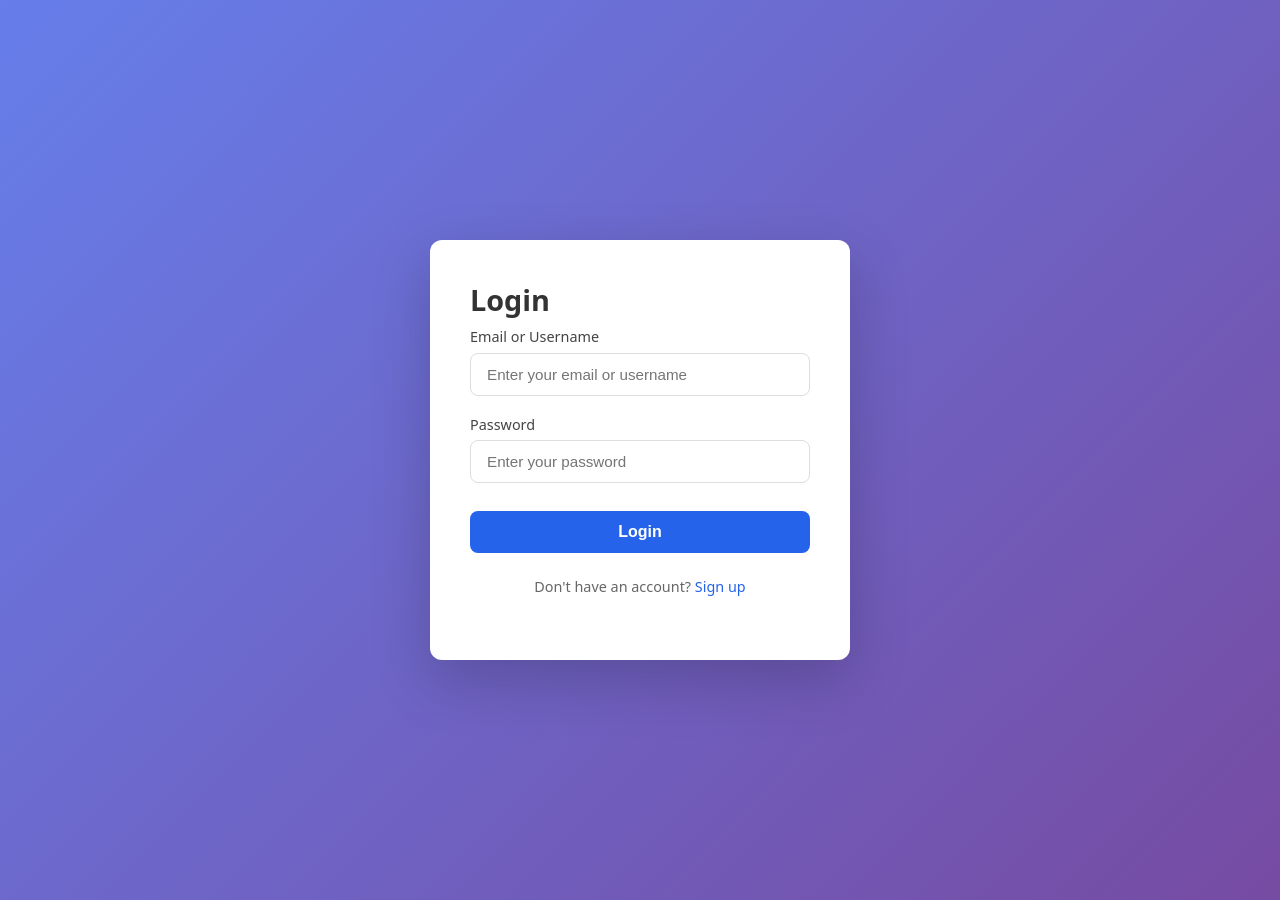
Test case: Login Page › shows error for short password
Type "user@test.com" into the field with placeholder "Enter your email or username" at (640, 374), box [470,353,810,396]
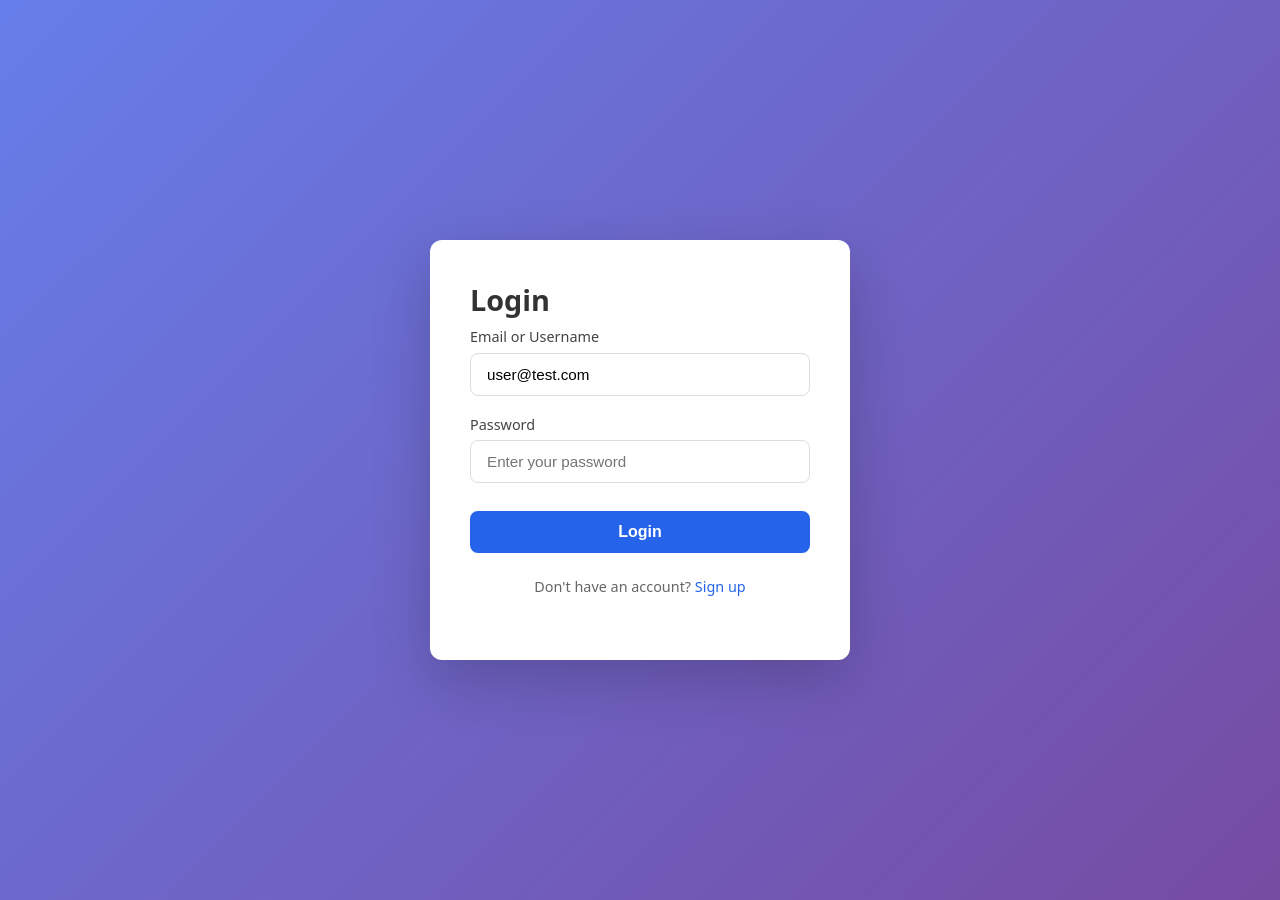
Type "123" into the password field with placeholder "Enter your password" at (640, 462), box [470,440,810,483]
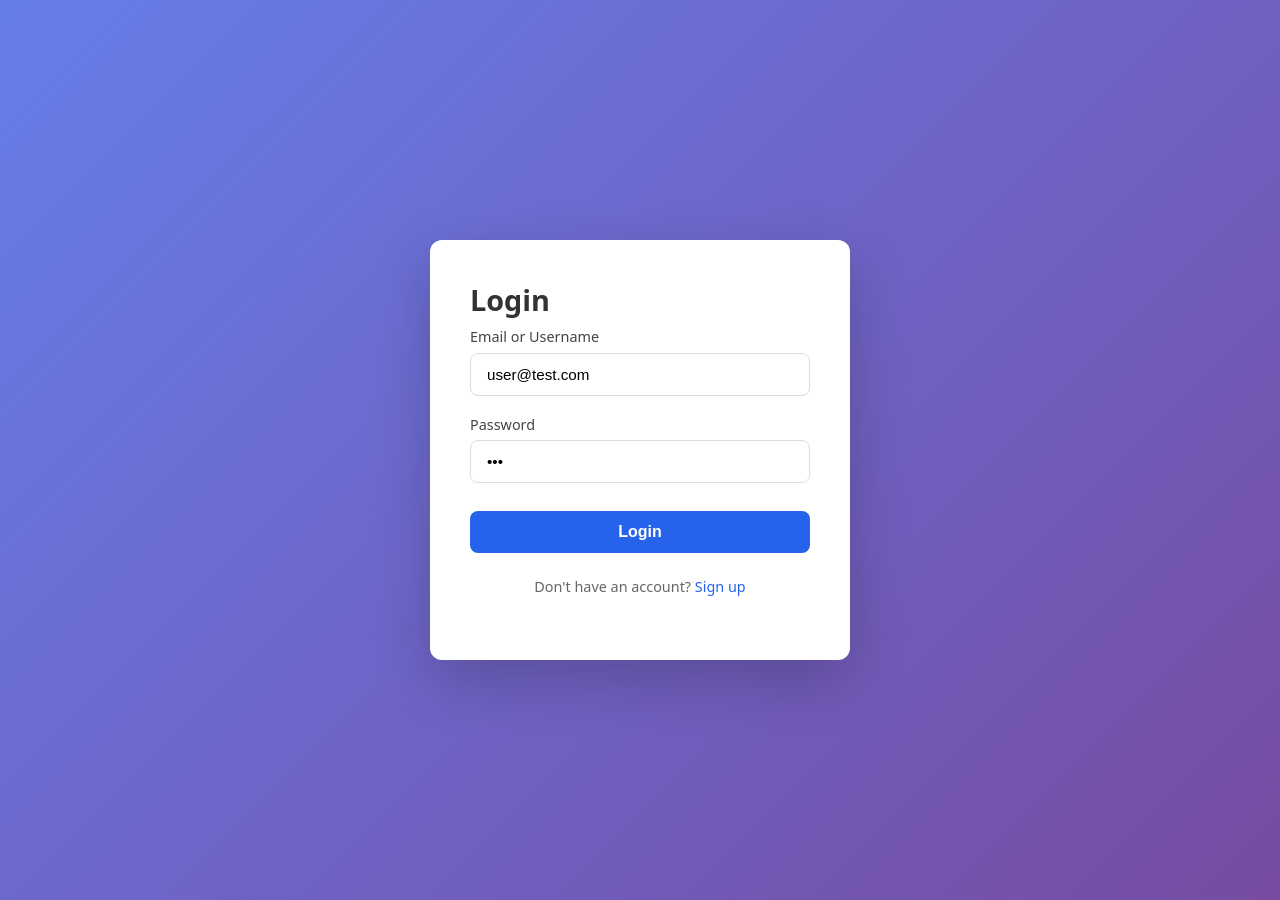
Click the button "Login" at (640, 532), box [470,511,810,553]
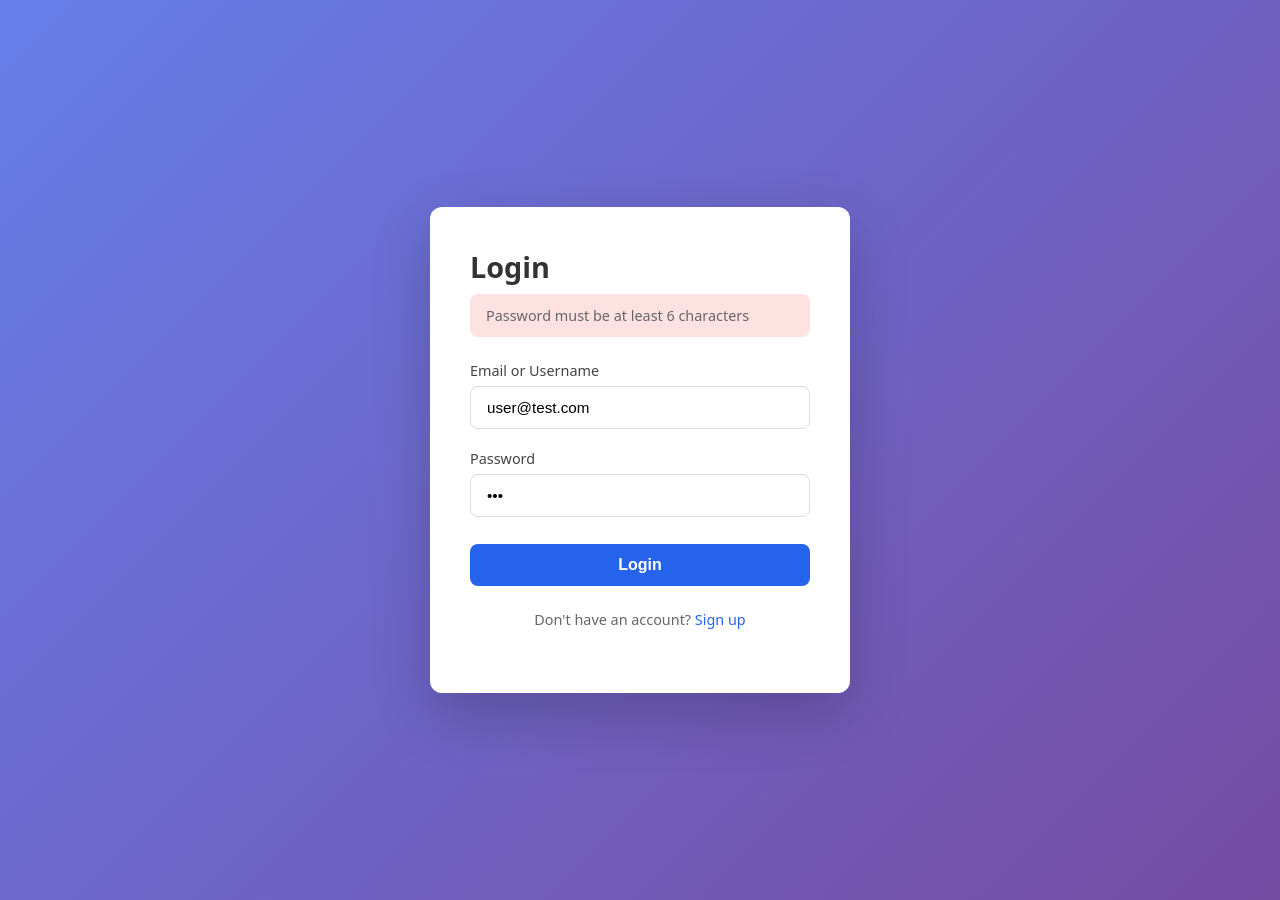
Result: the text "Password must be at least 6 characters" is shown at [470,294,810,337]
